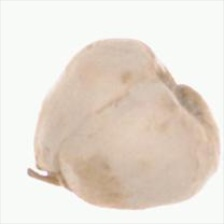L3: (27, 154, 77, 194)
L4: (26, 39, 220, 210)
